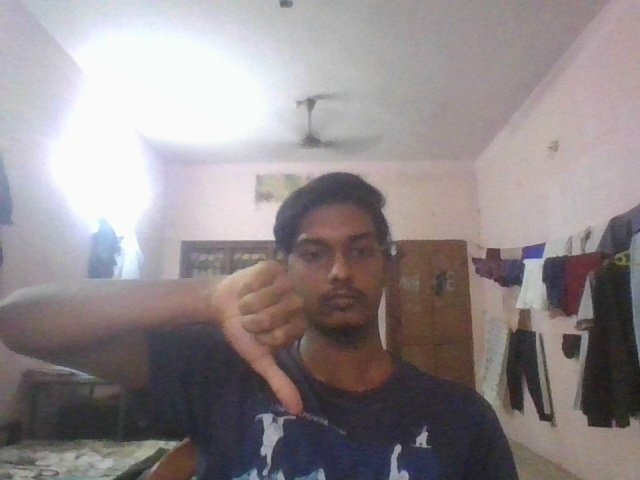thumbsdown: (213, 257, 312, 422)
